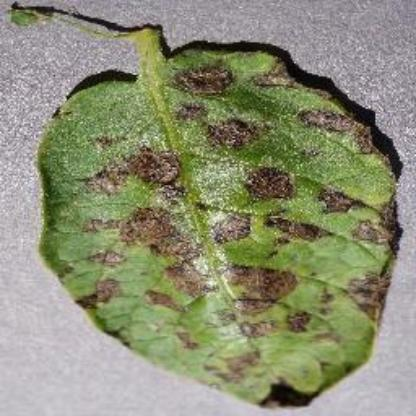Early-Blight: (37, 21, 401, 406)
